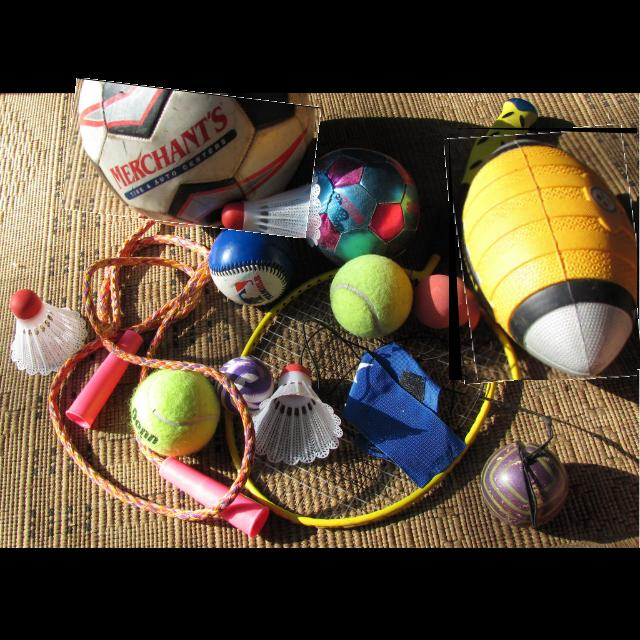Football: (449, 128, 637, 380), (64, 85, 318, 231)
